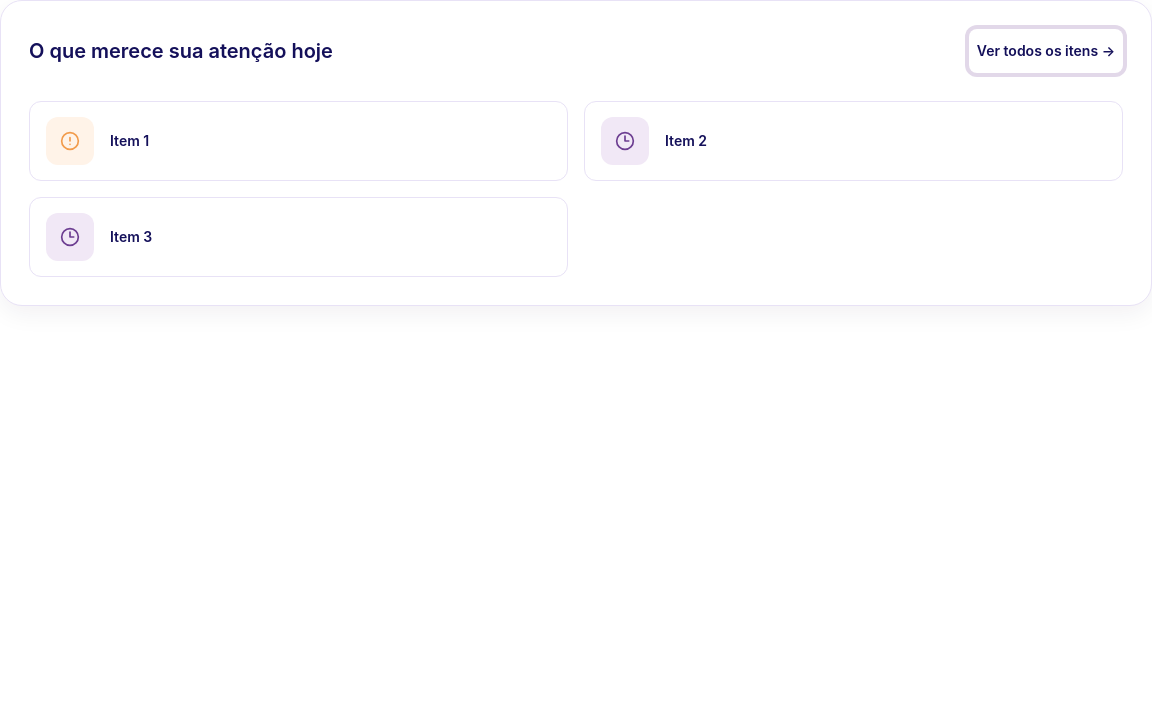
Scenario: TherapistAttentionSection › opens all items in a dialog when there are more than three
The width and height of the screenshot is (1152, 720).
Expected: the number of links is 3, [29,101,568,181]; [584,101,1123,181]; [29,197,568,277]
Click the button "Ver todos os itens →" at (1046, 51), box [969,29,1123,73]
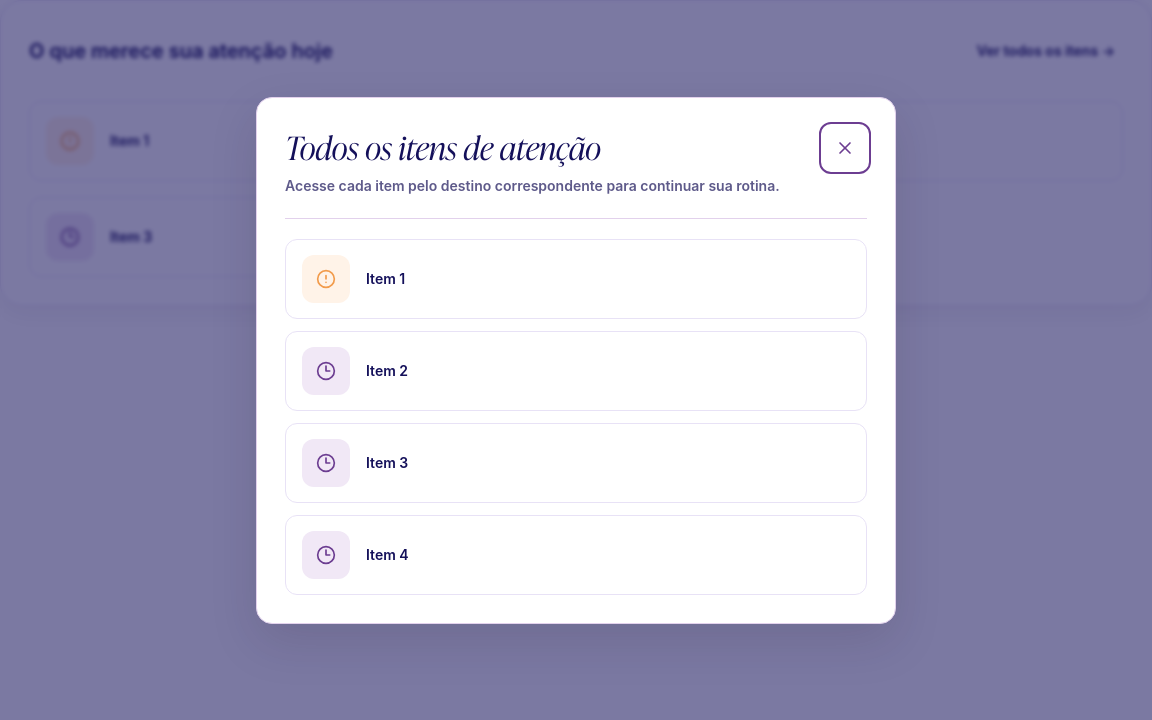
Result: the dialog is shown at [256,96,896,624]
Result: the number of links is 7
Press Escape
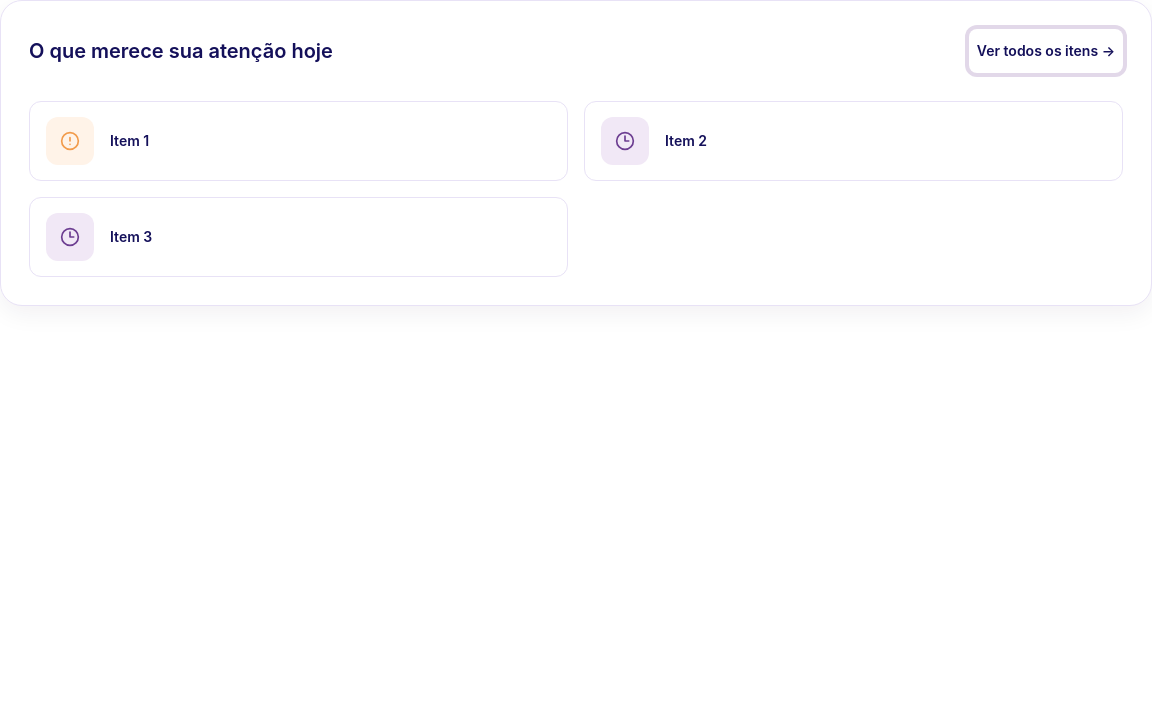
Result: the dialog is gone
